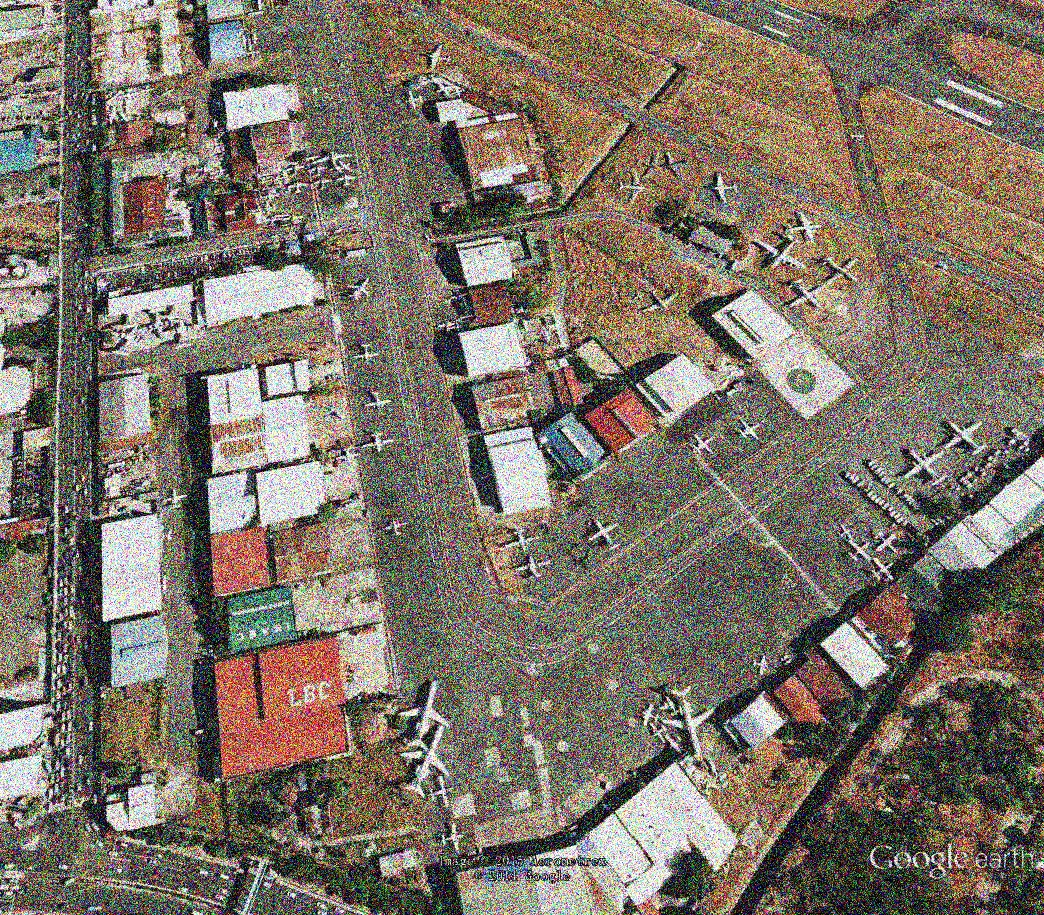aircraft: (657, 685, 721, 762), (395, 675, 455, 756), (397, 721, 456, 799), (753, 234, 816, 279), (938, 414, 989, 458), (904, 446, 951, 490), (779, 273, 830, 313), (104, 324, 155, 362), (816, 251, 863, 290), (786, 207, 826, 249), (584, 514, 624, 554), (156, 319, 203, 353), (137, 307, 185, 340), (704, 168, 742, 209), (639, 286, 682, 318), (513, 554, 556, 585), (426, 772, 460, 810), (615, 171, 650, 207), (314, 148, 359, 175), (439, 819, 468, 859), (504, 528, 543, 556), (661, 147, 690, 183), (361, 430, 398, 458), (633, 149, 664, 180), (377, 516, 412, 542), (736, 418, 771, 443), (343, 276, 374, 304), (425, 44, 453, 74), (690, 431, 721, 458), (870, 557, 899, 585), (160, 486, 190, 513), (872, 529, 902, 556), (365, 389, 395, 415), (400, 85, 428, 112), (847, 541, 875, 568), (331, 445, 364, 466), (639, 702, 664, 729), (351, 342, 382, 363), (647, 721, 671, 748), (751, 652, 773, 679), (656, 693, 679, 716), (271, 167, 298, 186), (664, 731, 684, 756), (432, 79, 455, 100), (836, 519, 856, 543), (285, 179, 312, 195), (312, 175, 334, 194), (334, 173, 357, 190), (334, 160, 357, 176), (118, 86, 139, 103), (241, 42, 260, 60), (305, 164, 329, 178), (261, 215, 282, 228), (245, 30, 261, 47), (301, 153, 322, 165), (262, 190, 280, 203), (261, 201, 279, 214), (136, 86, 154, 97), (633, 291, 646, 305), (849, 131, 865, 142), (160, 88, 176, 98)
